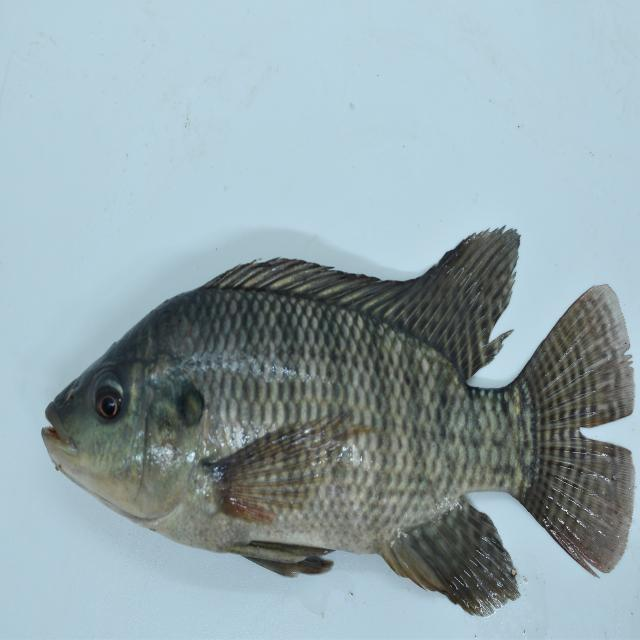Healthy Fish: (39, 222, 636, 615)
